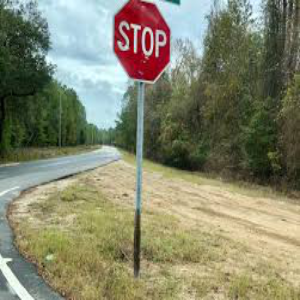STOP_SIGN: (112, 1, 172, 84)
